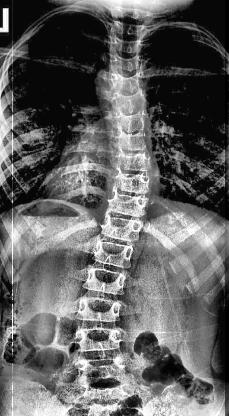Vertebrae: (86, 240, 140, 271), (78, 266, 132, 296), (97, 214, 147, 243), (73, 297, 125, 323), (72, 328, 124, 352), (76, 358, 130, 380), (109, 170, 157, 194), (106, 192, 152, 216), (109, 128, 153, 152), (110, 150, 154, 172), (110, 109, 154, 131), (108, 90, 148, 113), (108, 18, 150, 38), (108, 51, 144, 74), (106, 74, 146, 94), (106, 36, 146, 54)
